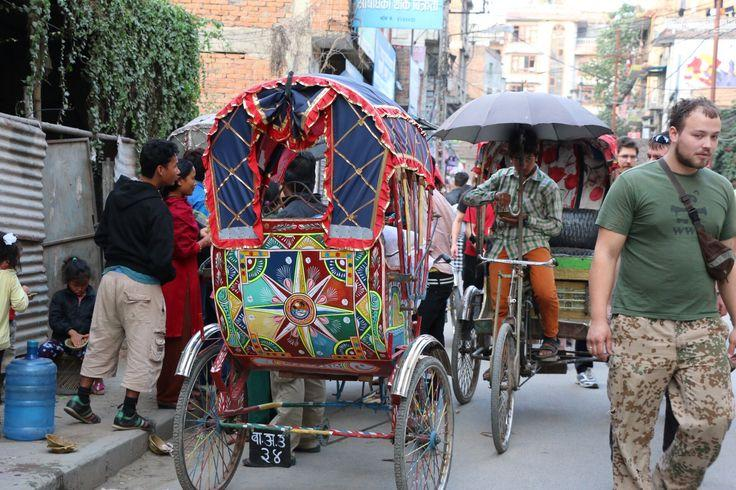Rickshaw: (174, 75, 453, 488), (438, 93, 609, 452)
